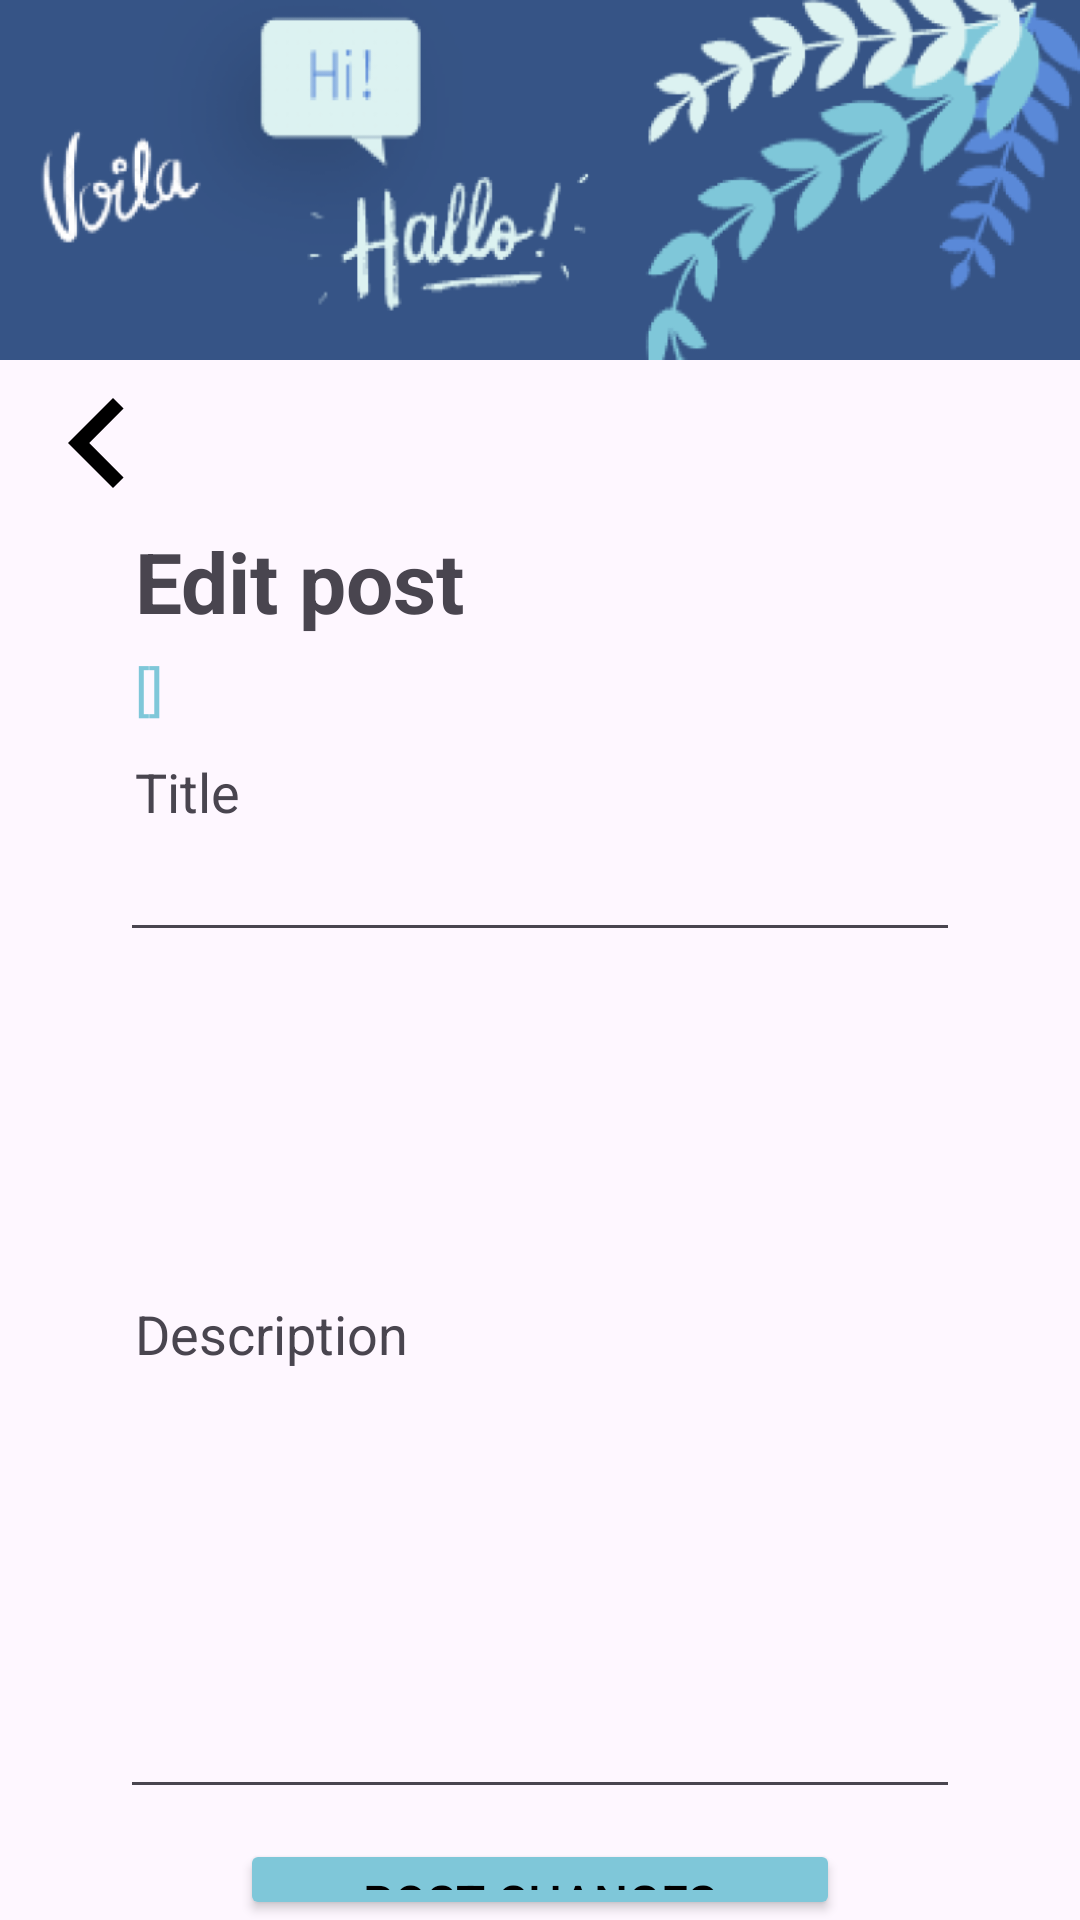

Icons on this 1080w x 1920h Android screen, each with its box as {"x1": x1, "y1": y1, "x2": x2, "y2": y2}:
chevron left: {"x1": 68, "y1": 398, "x2": 124, "y2": 488}
